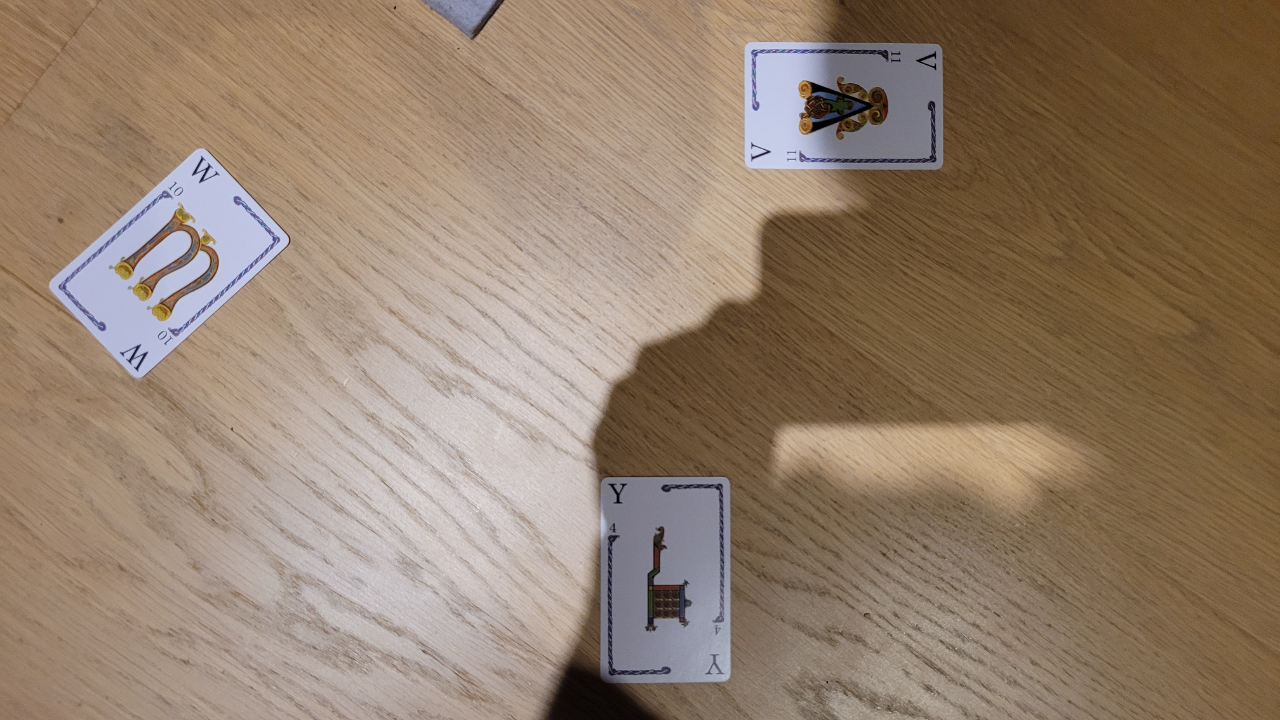quiddler_card: (42, 144, 297, 391), (586, 462, 744, 699), (738, 37, 953, 181)
